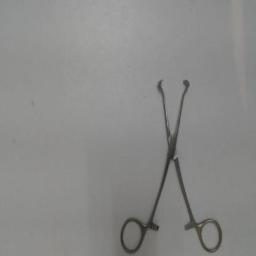Babcock Tissue Forceps: (117, 68, 229, 254)
